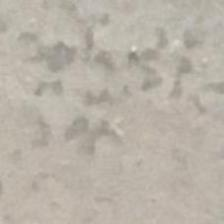Non_Crack: (30, 101, 224, 194)
